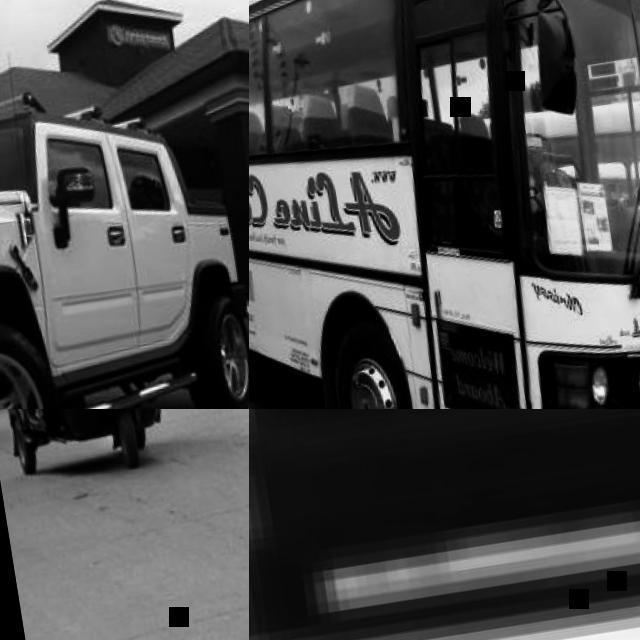car: (0, 92, 250, 467)
